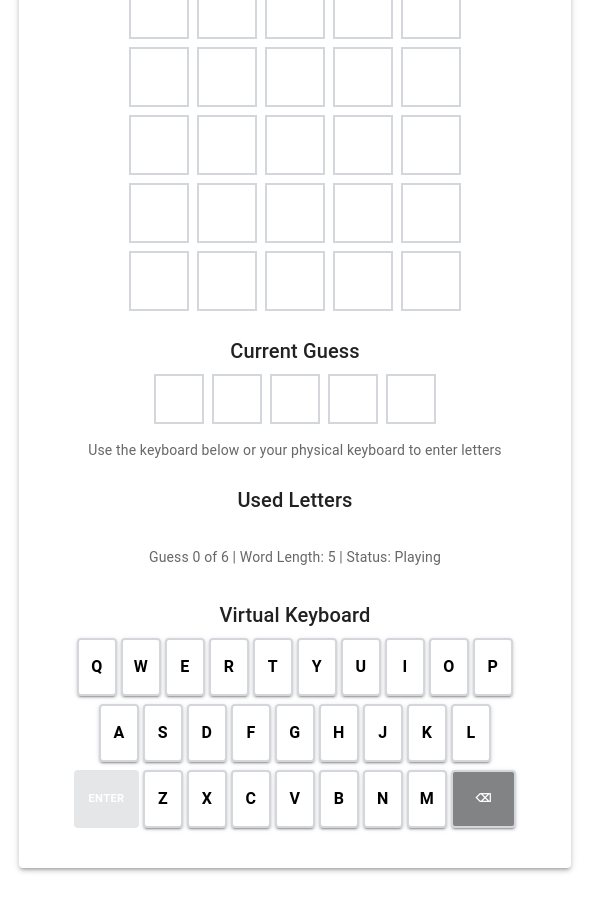
it: Submitting invalid guess shows error message
(page scrolled)
Click the button "Q": point(97, 667) [77,638,117,696]
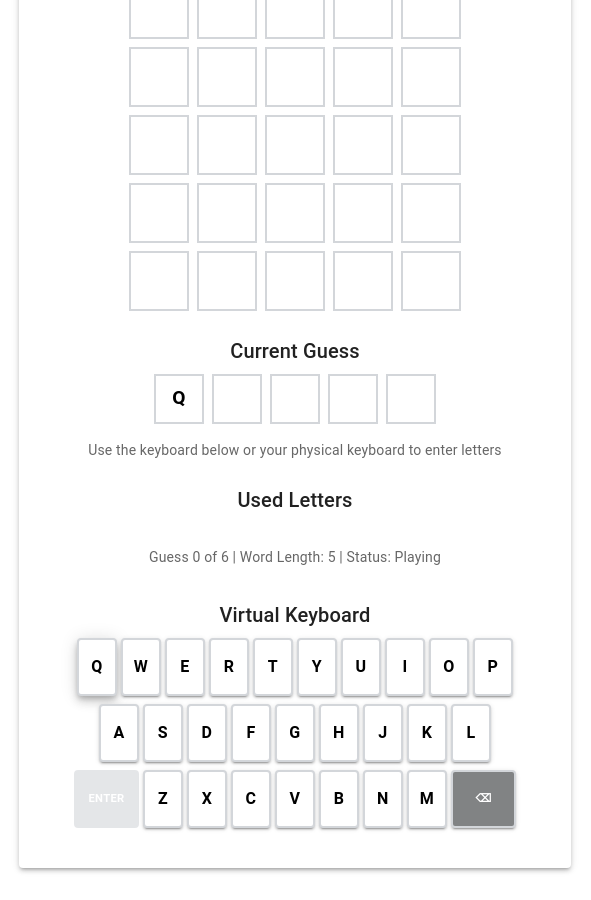
Click the button "W": point(141, 667) [121,638,161,696]
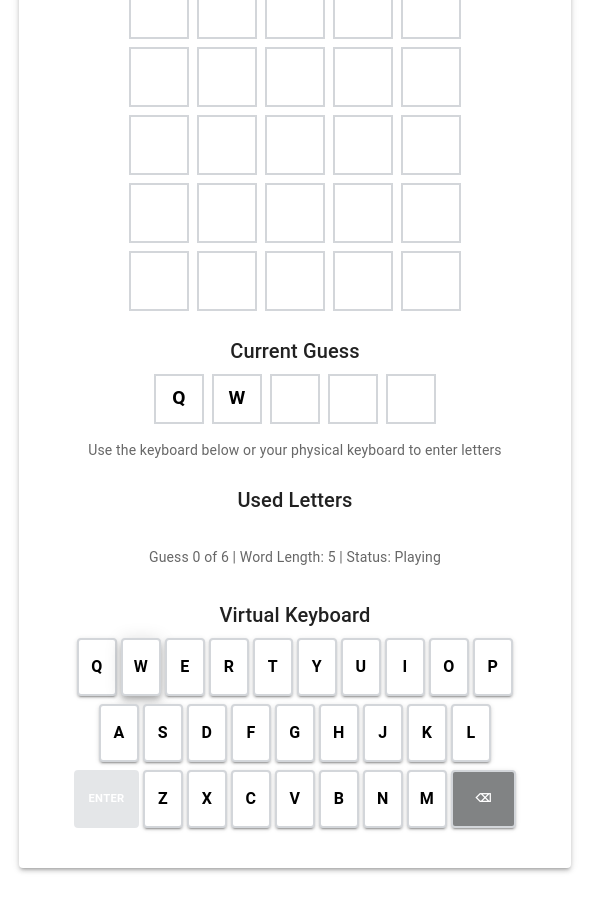
Click the button with test id "keyboard-key-e": point(185, 667) [165,638,205,696]
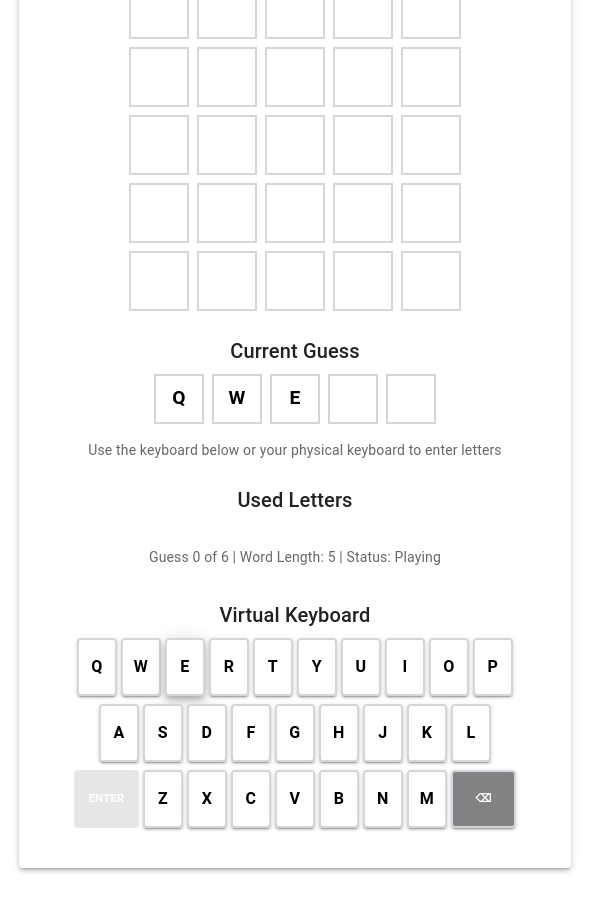
Click the button "R": point(229, 667) [209,638,249,696]
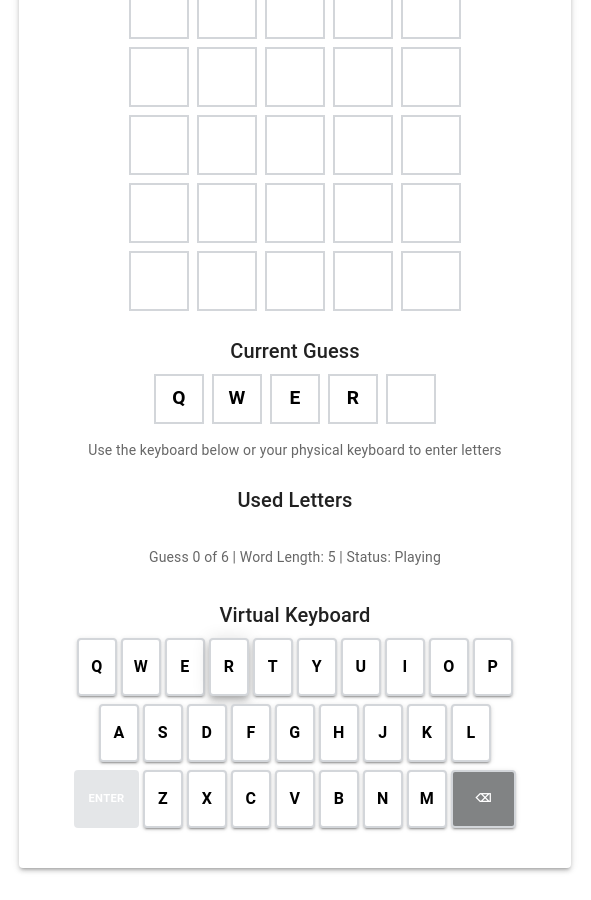
Click the button "T": point(273, 667) [253,638,293,696]
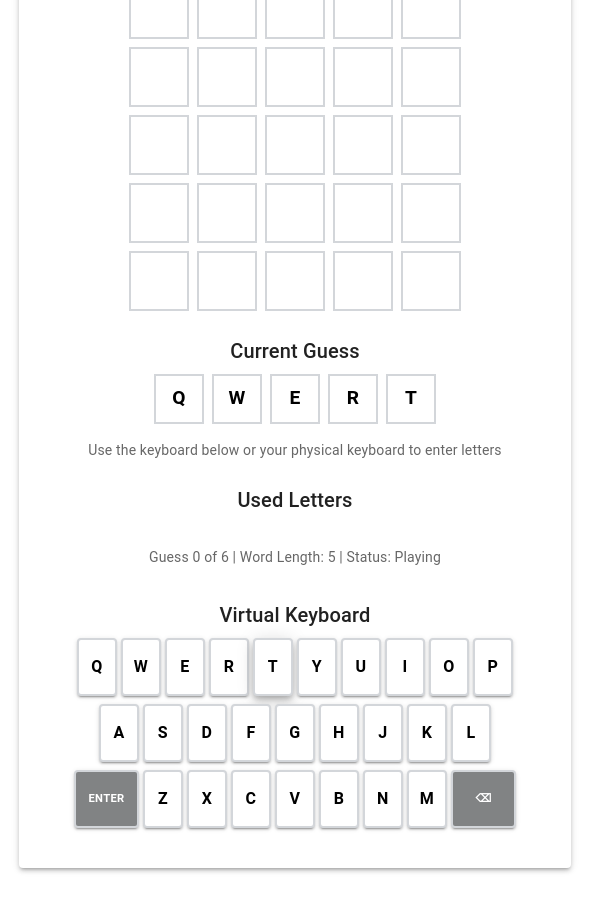
Check: the button with test id "keyboard-key-enter" does not have attribute disabled
Click the button with test id "keyboard-key-enter": point(106, 799) [74,770,139,828]
(page scrolled)
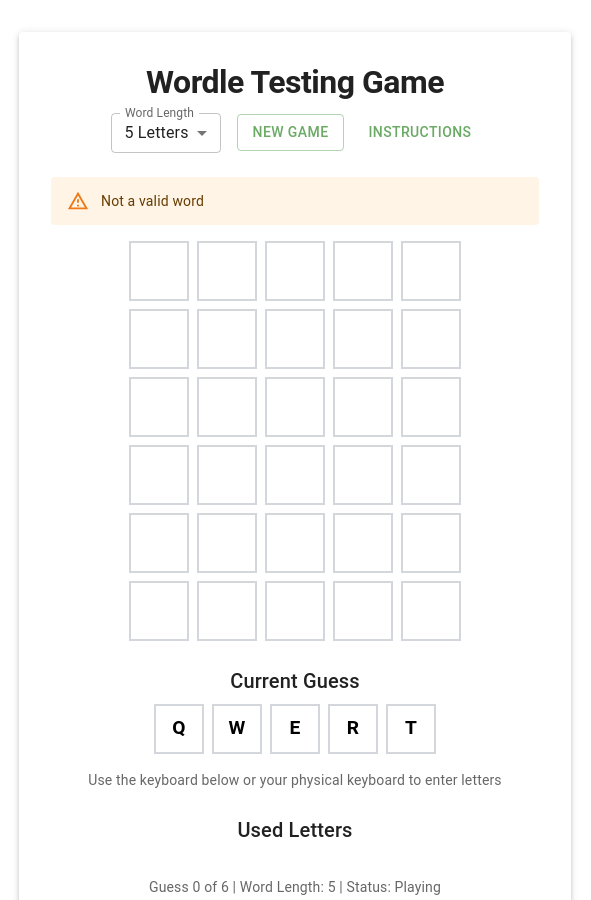
Check: the message with test id "game-message" reads "Not a valid word", box [101,192,204,208]
